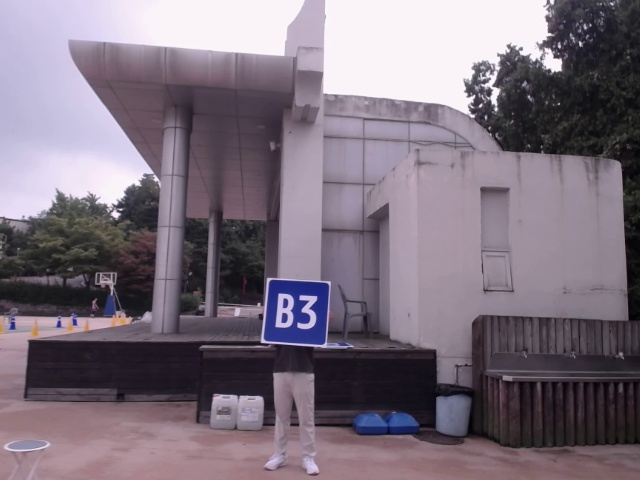delivery_b3: (264, 280, 328, 345)
